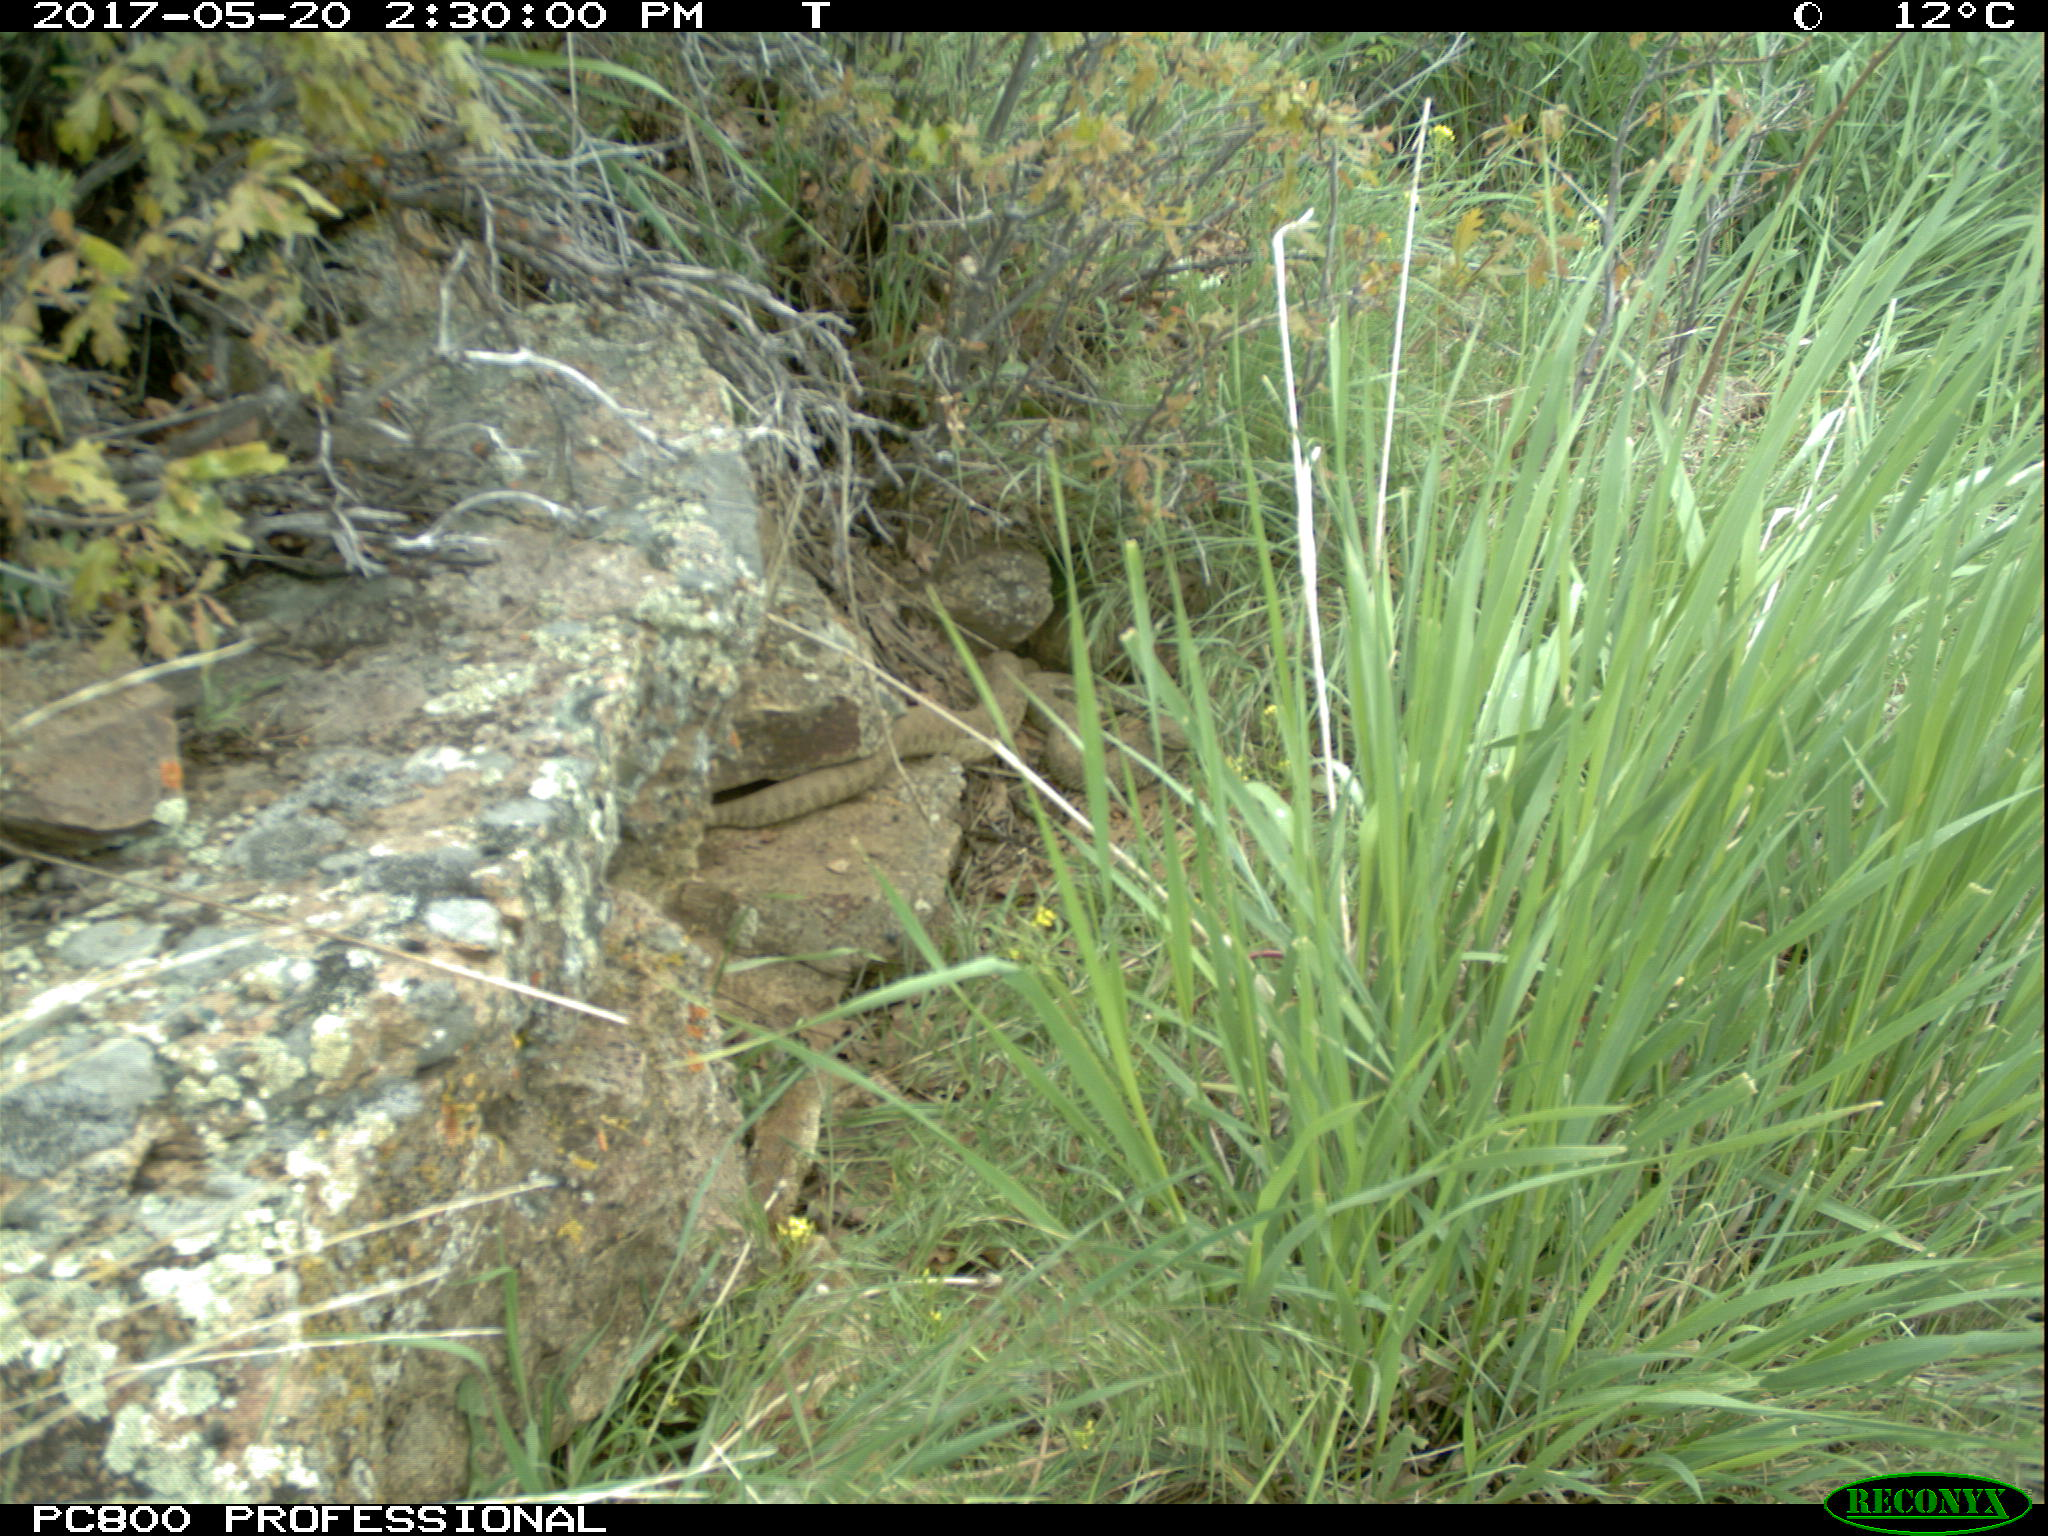snake: (710, 649, 1027, 829), (747, 1063, 851, 1434), (1022, 670, 1192, 795)
